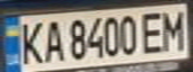0: (118, 11, 142, 56), (103, 12, 121, 57)
4: (84, 13, 106, 60)
8: (63, 16, 87, 61)
A: (39, 17, 66, 64)
E: (136, 9, 169, 55)
K: (15, 18, 45, 65)
M: (157, 7, 190, 52)
